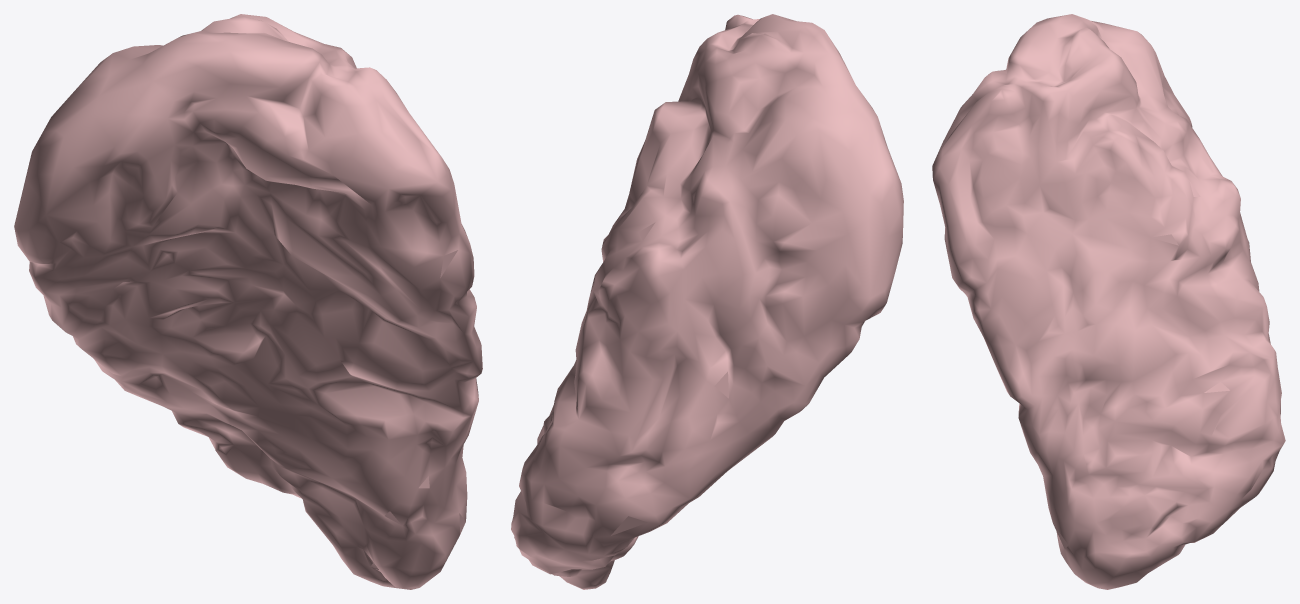
Rendered from 3d-vh-m-palatine-tonsil-l-20.glb.
The picture shows the model from 3 angles, left to right: view 1: azimuth 30°, elevation 25°; view 2: azimuth 150°, elevation 25°; view 3: azimuth 270°, elevation 25°; orthographic projection. The views are drawn at different scales.
Parts seen in each view (by area): view 1: VH_M_palatine_tonsil_L; view 2: VH_M_palatine_tonsil_L; view 3: VH_M_palatine_tonsil_L.
Part boxes in pixels (x1,y1,x2,y2): VH_M_palatine_tonsil_L: (14, 14, 482, 589); VH_M_palatine_tonsil_L: (511, 14, 903, 589); VH_M_palatine_tonsil_L: (932, 14, 1285, 589).
Bounding box in the file's own units: 0.0163 × 0.0243 × 0.0159.
